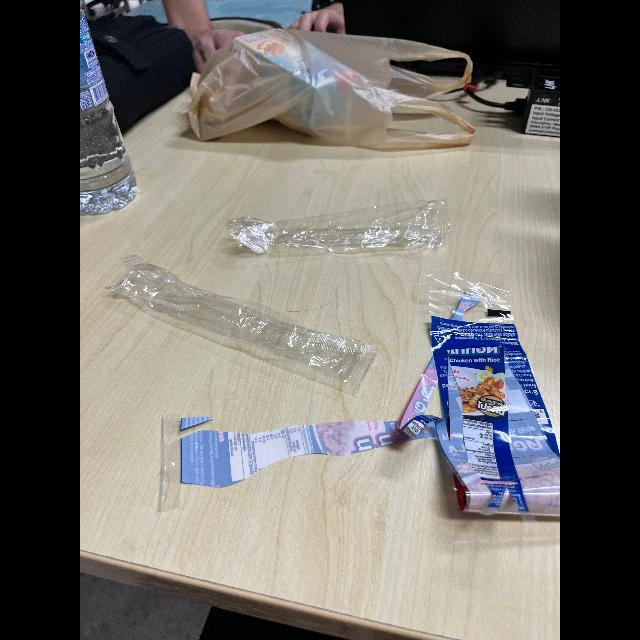scrap_plastic: (418, 278, 560, 544), (122, 254, 372, 388), (224, 190, 448, 270)
